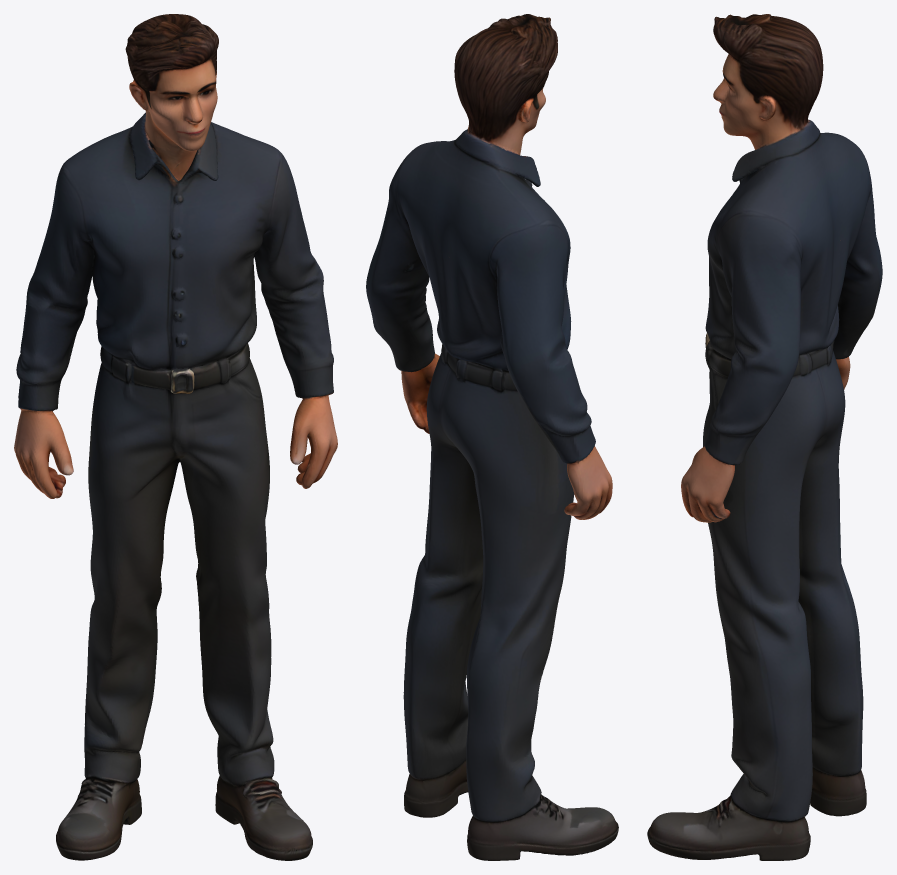
File: man.glb
3 views of the same model, side by side, from view 1: azimuth 30°, elevation 25°; view 2: azimuth 150°, elevation 25°; view 3: azimuth 270°, elevation 25° (orthographic). The views are drawn at different scales.
Visible parts, largest first — view 1: tripo_node_d6f4ee8b-47ff-4973-96cd-ef62e29fb134; view 2: tripo_node_d6f4ee8b-47ff-4973-96cd-ef62e29fb134; view 3: tripo_node_d6f4ee8b-47ff-4973-96cd-ef62e29fb134.
Boxes of the visible parts, left/top/right/bottom form: tripo_node_d6f4ee8b-47ff-4973-96cd-ef62e29fb134: left=14, top=14, right=337, bottom=860; tripo_node_d6f4ee8b-47ff-4973-96cd-ef62e29fb134: left=366, top=14, right=618, bottom=860; tripo_node_d6f4ee8b-47ff-4973-96cd-ef62e29fb134: left=647, top=14, right=882, bottom=860.
Size of the model in its own units: 0.3447 by 1 by 0.2673.
1 material, 1 textured.
